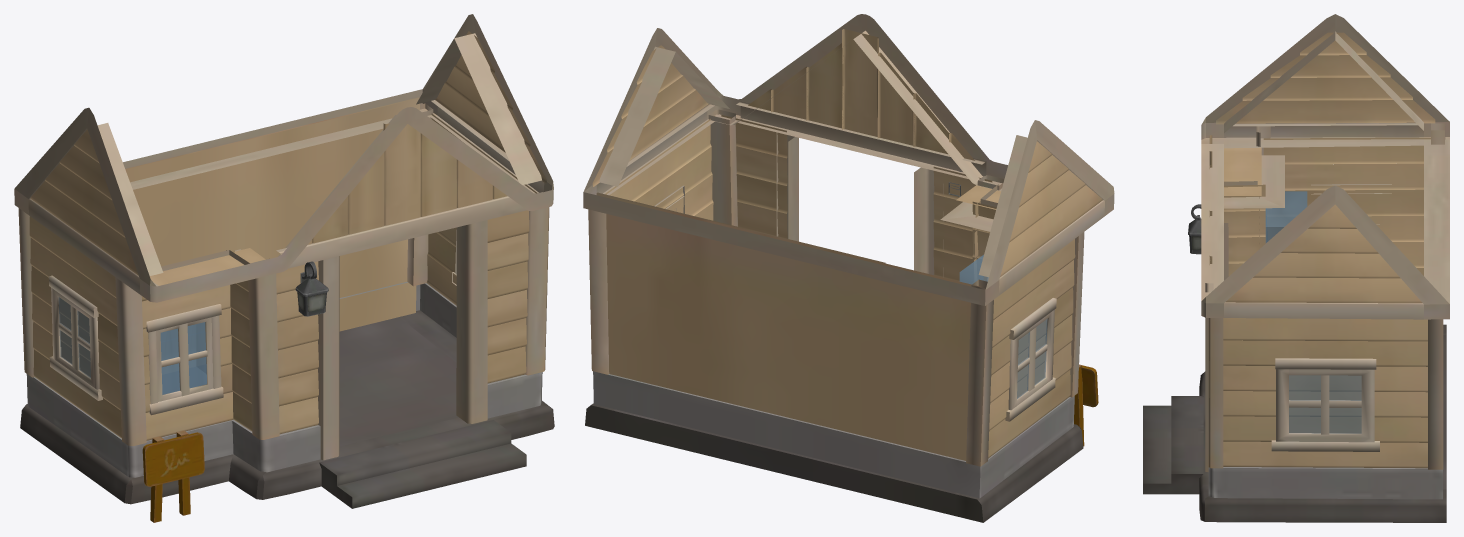
File: wall-na-woodsiding.glb
3 renders of one model, left to right at view 1: azimuth 30°, elevation 25°; view 2: azimuth 150°, elevation 25°; view 3: azimuth 270°, elevation 25°, orthographic. The views are drawn at different scales.
Size of the model in its own units: 38.46 by 33.69 by 27.3.
7 materials, 3 textured.
